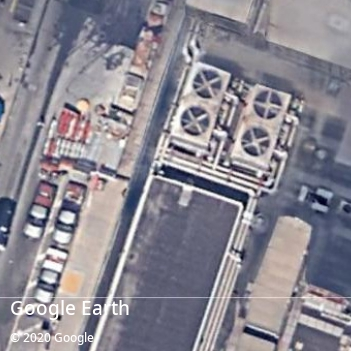Vent: (240, 127, 270, 157), (192, 70, 222, 99), (181, 106, 210, 136), (252, 90, 282, 119)
